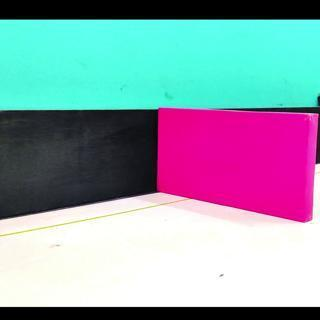xparking: (162, 118, 310, 222)
